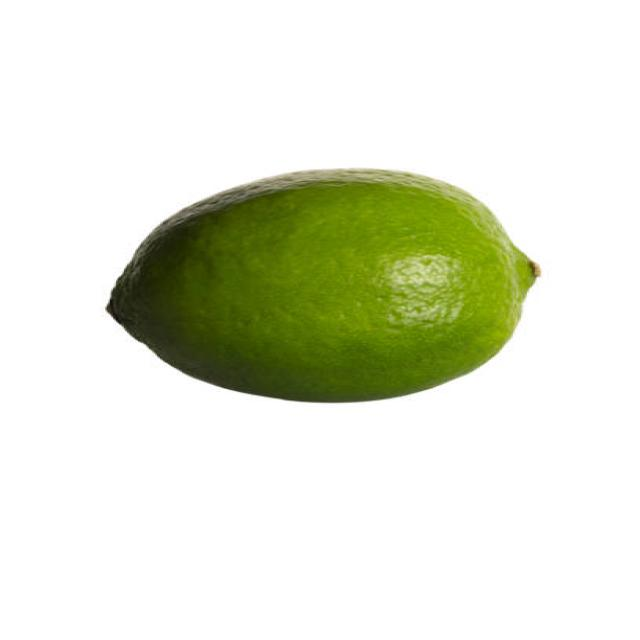Lemon: (104, 164, 546, 406)
